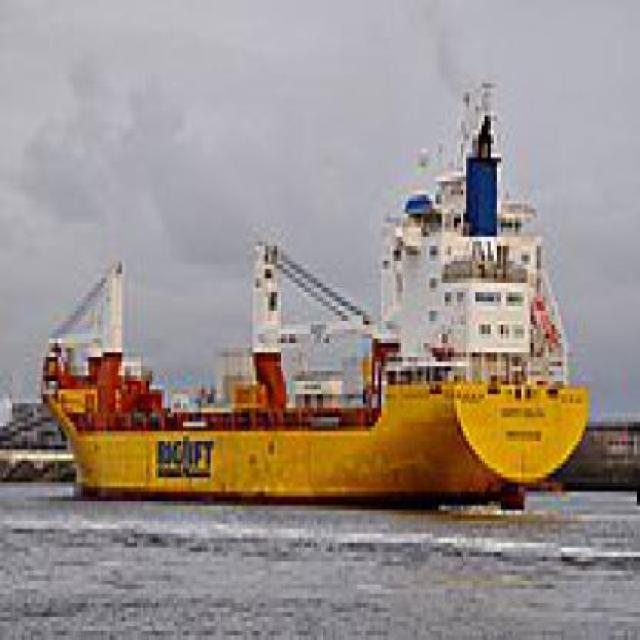container: (26, 89, 601, 526)
